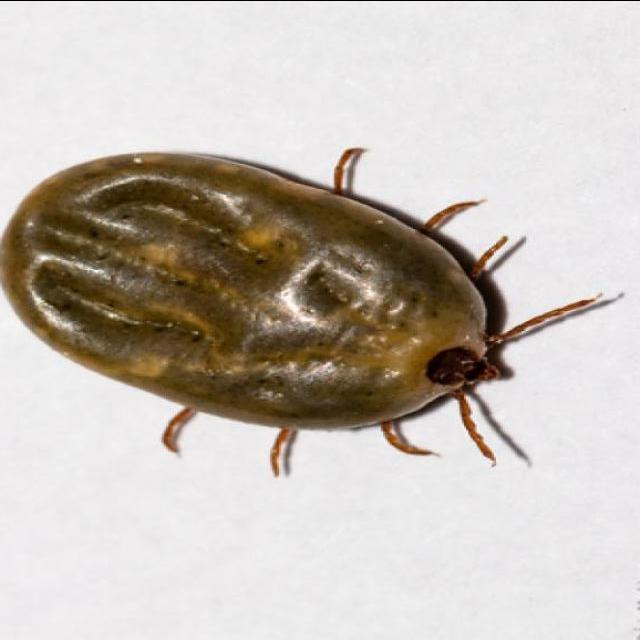Rhipicephalus Sanguineus-F-Fed: (0, 144, 616, 473)
